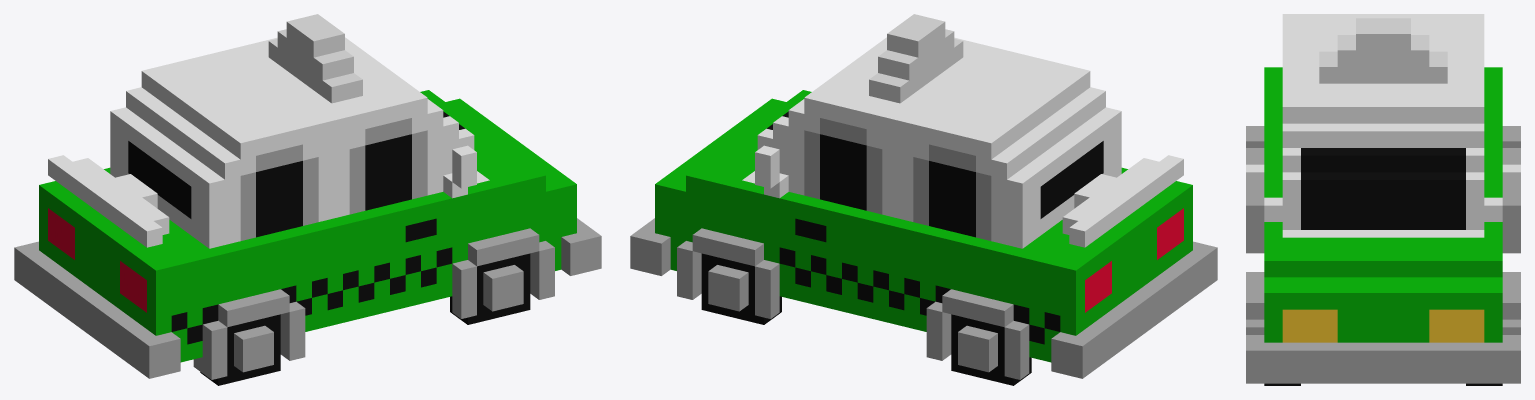
File: taxiVerde.fbx
3 views of the same model, side by side, from view 1: azimuth 30°, elevation 25°; view 2: azimuth 150°, elevation 25°; view 3: azimuth 270°, elevation 25° (orthographic).
Parts seen in each view (by area): view 1: Cubo.1891; view 2: Cubo.1891; view 3: Cubo.1891.
Boxes of the visible parts, x1=… form: Cubo.1891: x1=14, y1=14, x2=601, y2=385; Cubo.1891: x1=630, y1=14, x2=1217, y2=385; Cubo.1891: x1=1246, y1=14, x2=1520, y2=385.
Size of the model in its own units: 1500 by 1700 by 2900.
